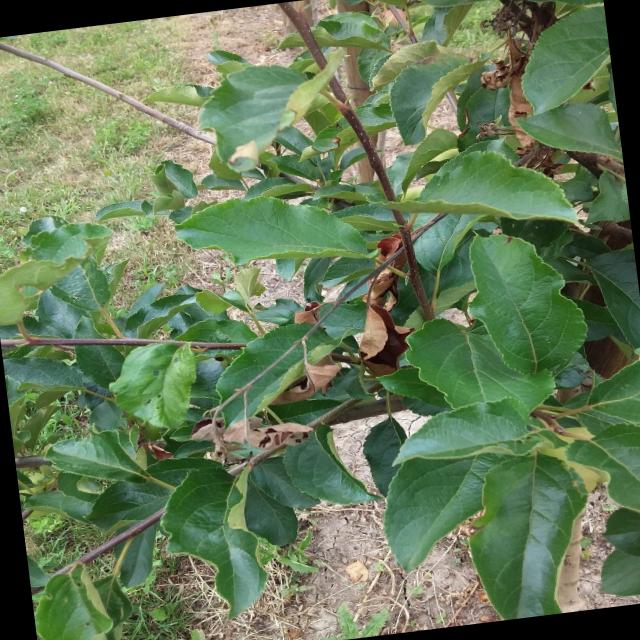-FireBlight-: (347, 220, 422, 373), (479, 6, 546, 172), (189, 388, 323, 462), (287, 311, 342, 402)
